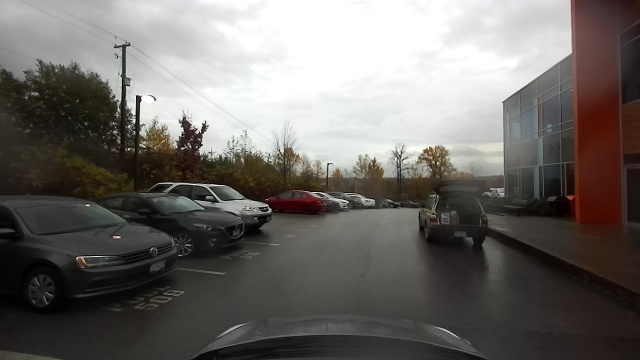car: (3, 189, 180, 308), (103, 185, 243, 250), (157, 173, 274, 231), (413, 178, 492, 247), (267, 188, 328, 216), (331, 188, 376, 208)
